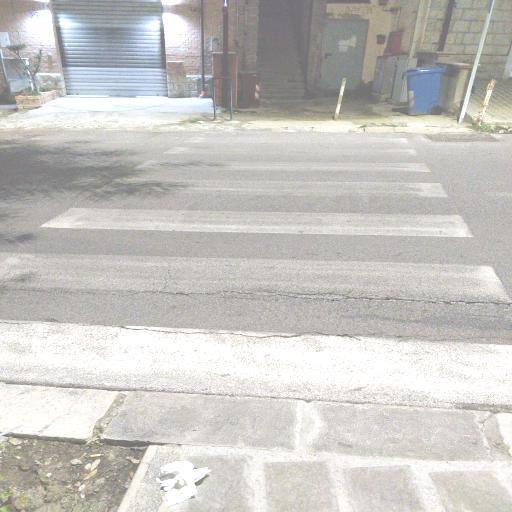crosswalk: (31, 174, 480, 249)
